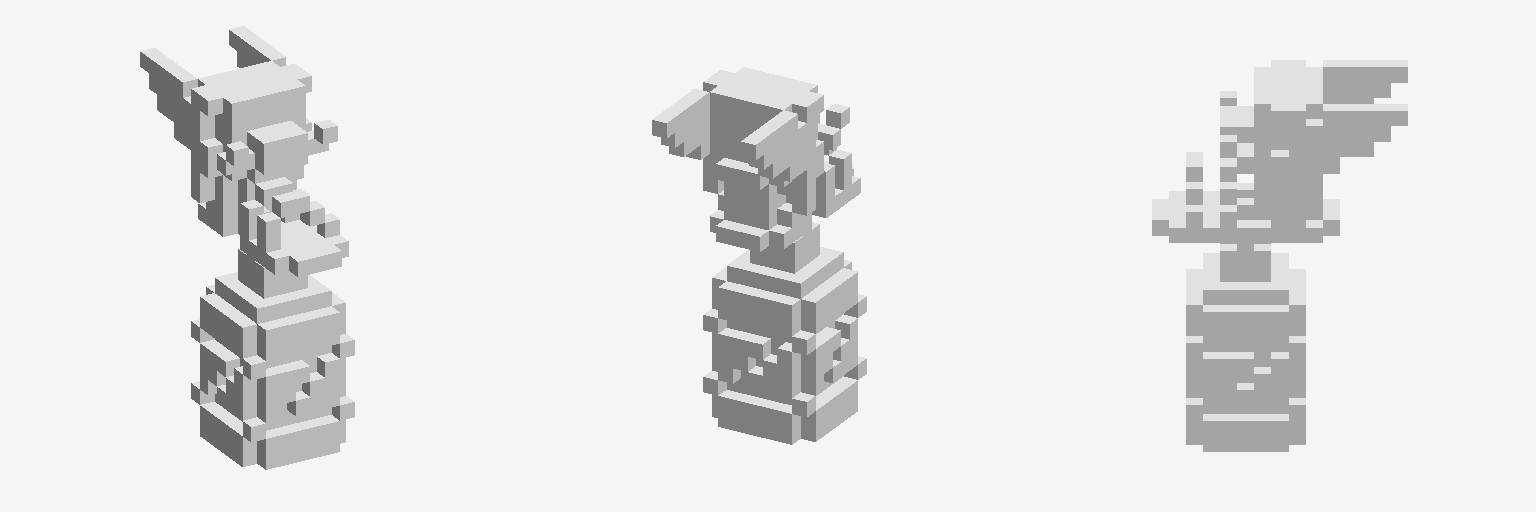
Rendered from SpeedTower1.obj.
3 renders of one model, left to right at view 1: azimuth 30°, elevation 25°; view 2: azimuth 150°, elevation 25°; view 3: azimuth 270°, elevation 25°, orthographic.
Visible parts, largest first — view 1: object 1; view 2: object 1; view 3: object 1.
Part boxes in pixels (x1,y1,x2,y2): object 1: (140,26,354,469); object 1: (652,67,866,444); object 1: (1152,60,1407,451).
Size of the model in its own units: 0.7 by 2.2 by 1.5.